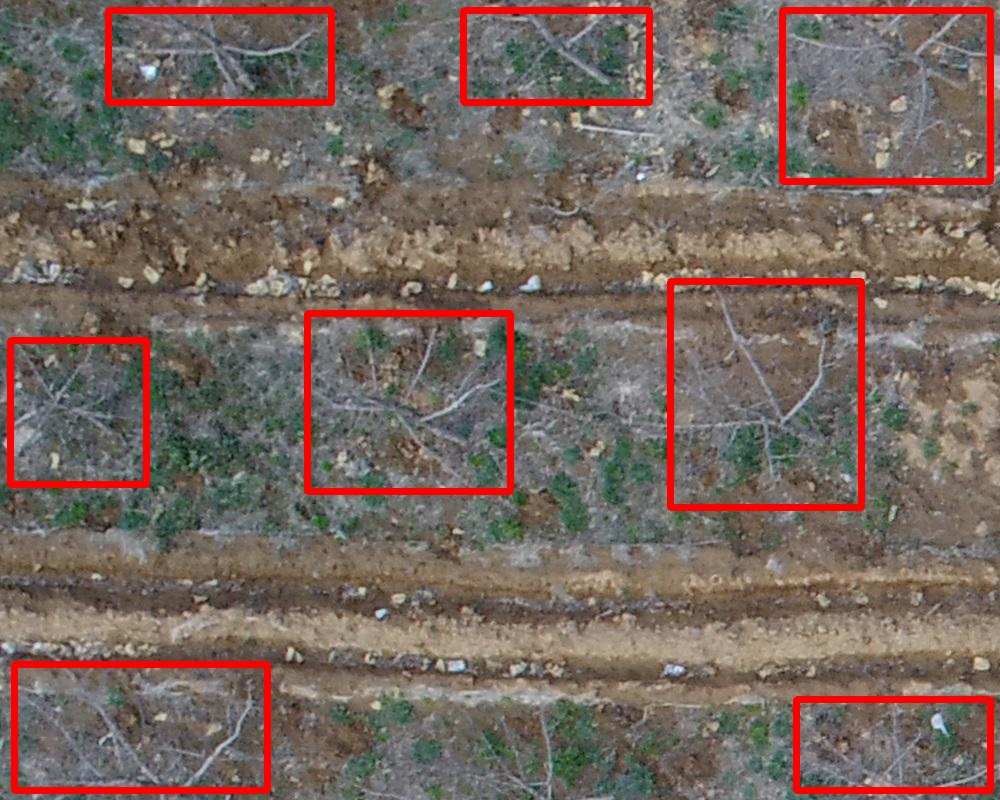apple: (670, 281, 861, 507), (307, 313, 510, 491), (782, 10, 990, 181), (14, 664, 267, 790), (108, 10, 331, 102), (10, 340, 146, 484), (796, 699, 990, 790), (463, 10, 649, 102)
